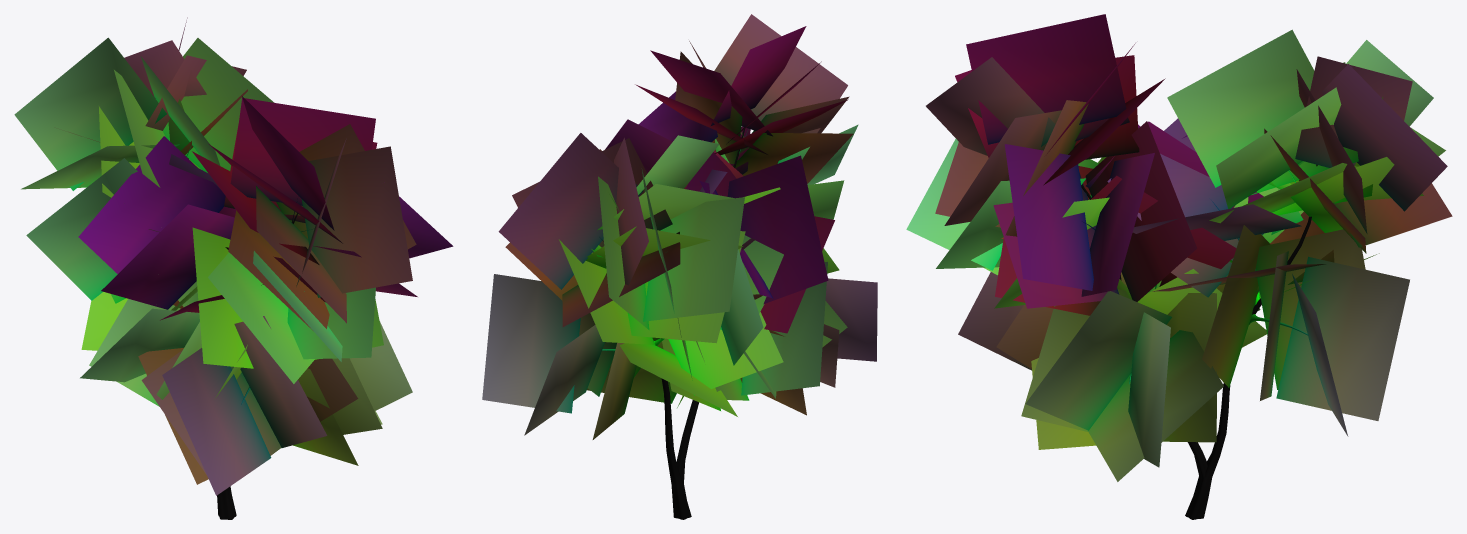
File: URP_P15_Tree_4_LOD_1.fbx
The picture shows the model from 3 angles, left to right: view 1: azimuth 30°, elevation 25°; view 2: azimuth 150°, elevation 25°; view 3: azimuth 270°, elevation 25°; orthographic projection. The views are drawn at different scales.
Visible parts, largest first — view 1: Tree_4_LOD_1; view 2: Tree_4_LOD_1; view 3: Tree_4_LOD_1.
Boxes of the visible parts, x1,y1,x2,y2 form: Tree_4_LOD_1: (14, 17, 453, 519); Tree_4_LOD_1: (482, 14, 877, 519); Tree_4_LOD_1: (906, 14, 1452, 519).
Size of the model in its own units: 475 by 706 by 717.
